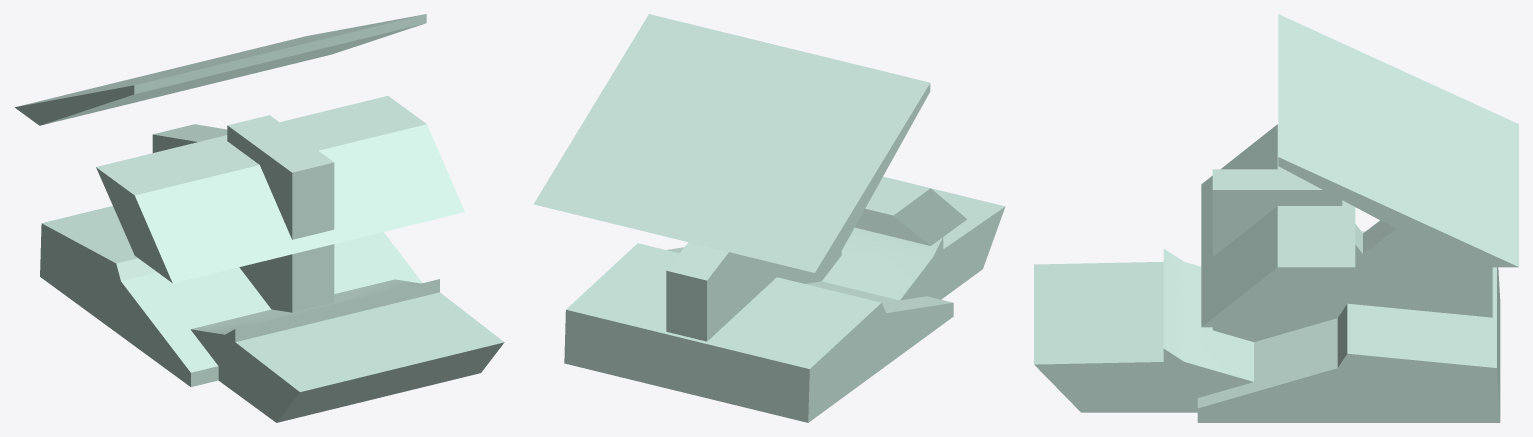
The picture shows the model from 3 angles, left to right: view 1: azimuth 30°, elevation 25°; view 2: azimuth 150°, elevation 25°; view 3: azimuth 270°, elevation 25°; orthographic projection. The views are drawn at different scales.
Visible parts, largest first — view 1: Renderer Node; view 2: Renderer Node; view 3: Renderer Node.
Part boxes in pixels (left/top/right/bottom): Renderer Node: left=15, top=14, right=504, bottom=422; Renderer Node: left=534, top=14, right=1005, bottom=422; Renderer Node: left=1034, top=14, right=1518, bottom=422.
Size of the model in its own units: 1.41 by 1.27 by 2.02.
